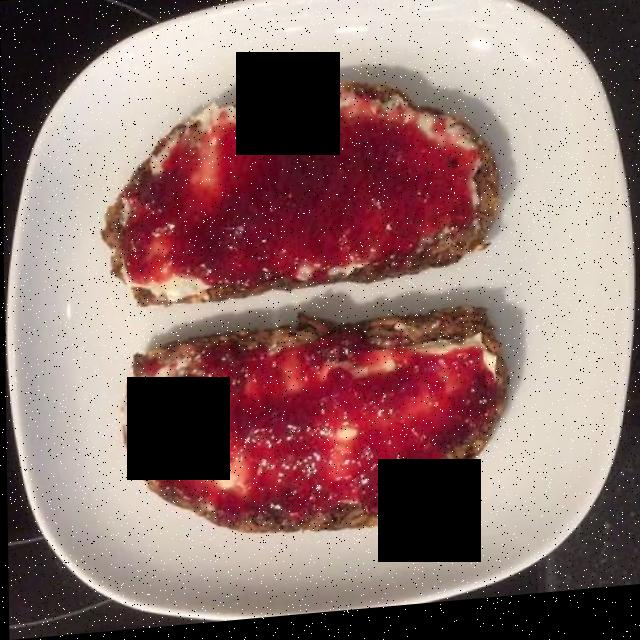bread-5-grain: (106, 66, 529, 532), (109, 78, 521, 538), (109, 100, 528, 546), (112, 86, 497, 305)
butter: (111, 87, 527, 505), (125, 103, 499, 494)
jam: (108, 98, 497, 523), (131, 121, 481, 542), (122, 122, 477, 525), (122, 321, 504, 535)
